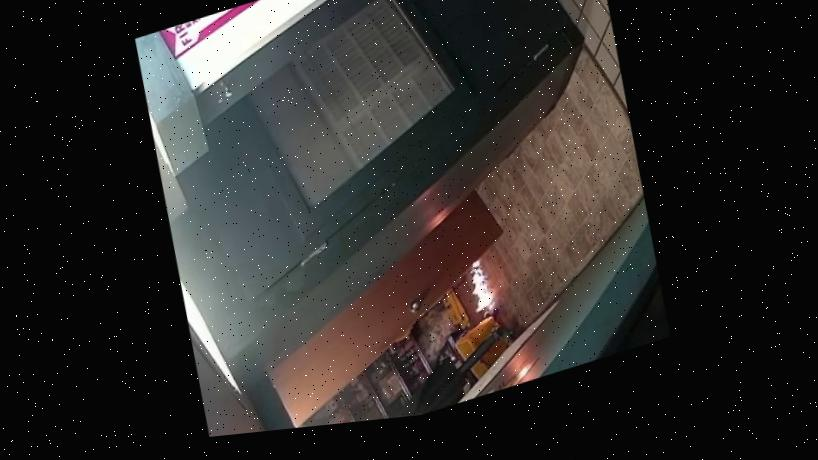fire: (417, 239, 531, 332)
